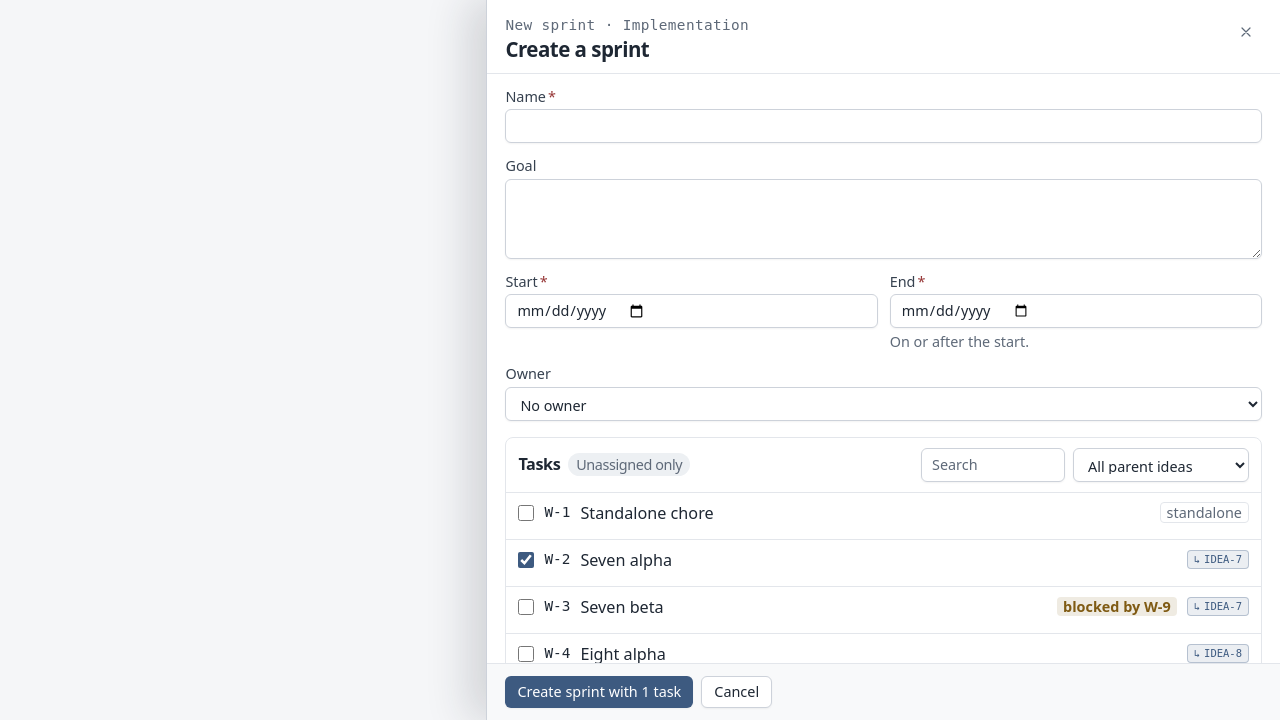
SprintCreateDrawer outcome › puts the sprint’s own refusals beside their fields, not under the picker
Type "  Sprint 9 " into the field labelled "Name*".
click(884, 126); type("  Sprint 9 ")  # box [505,109,1262,143]
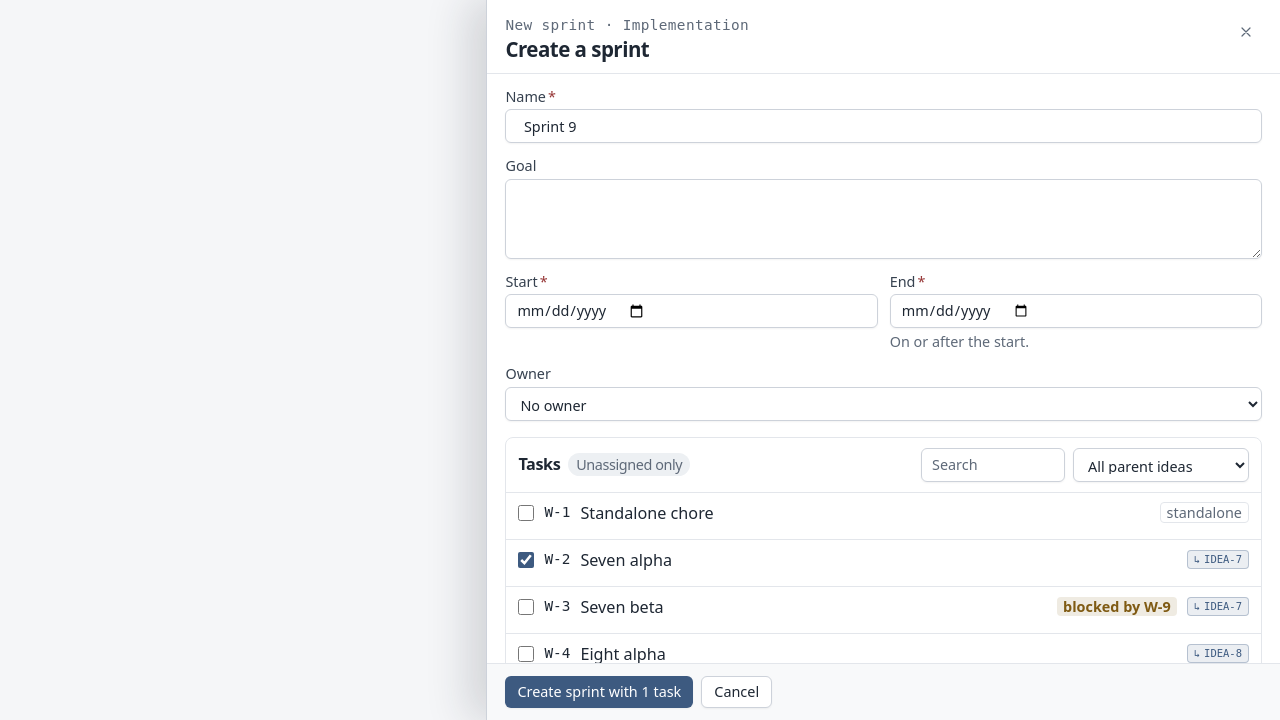
Type "2026-11-02" into the date field labelled "Start*".
click(692, 311); type("2026-11-02")  # box [505,294,878,328]
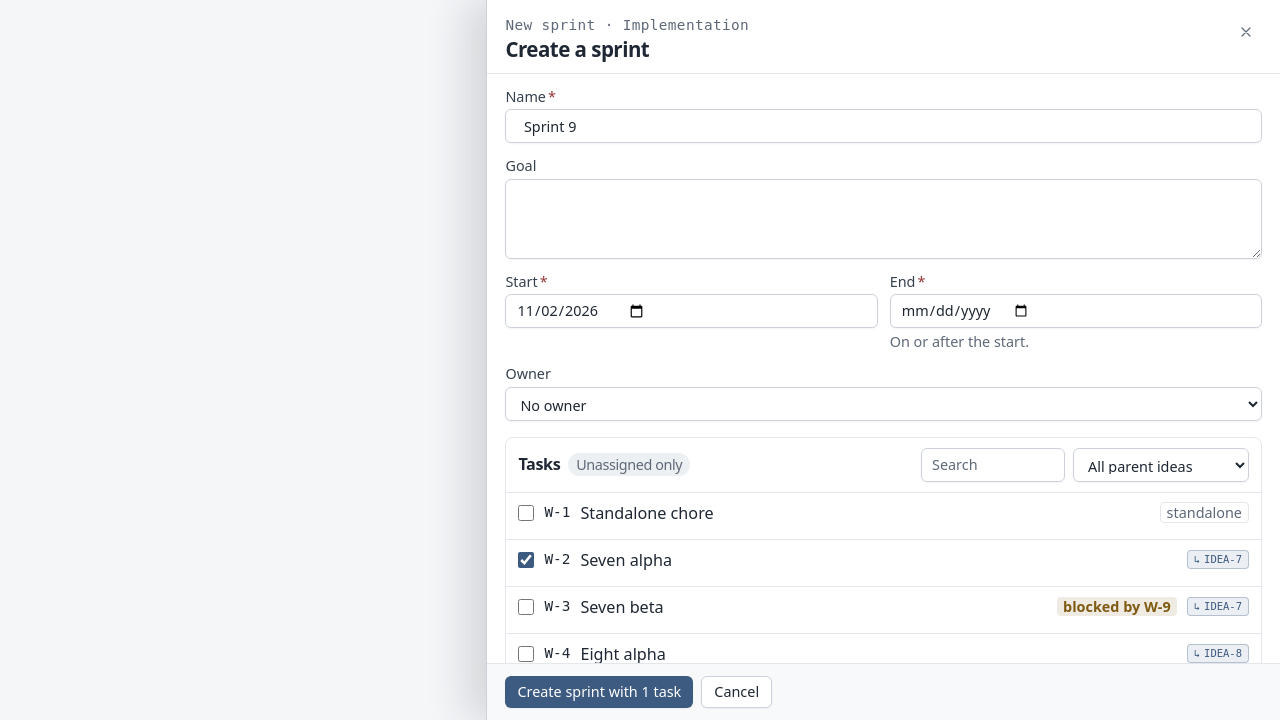
Type "2026-11-13" into the date field labelled "End*".
click(1076, 311); type("2026-11-13")  # box [890,294,1262,328]
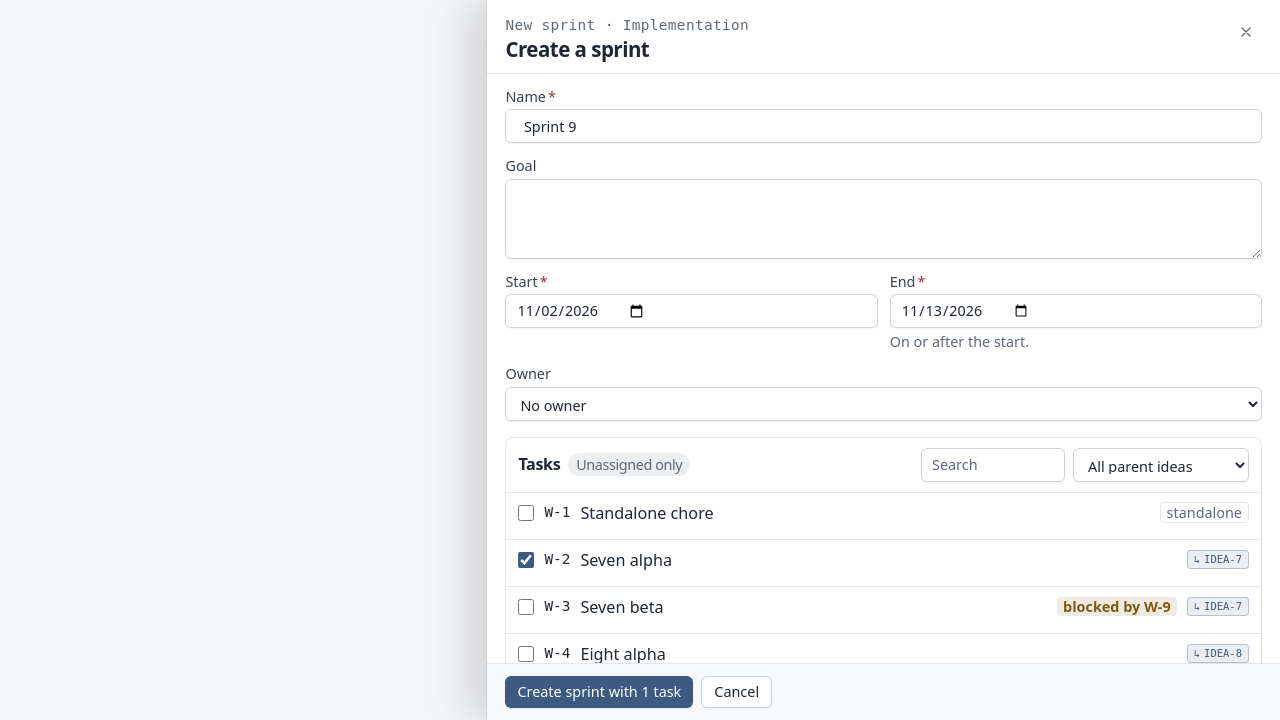
Click the button "Create sprint with 1 task".
click(599, 692)  # box [505,676,693,708]
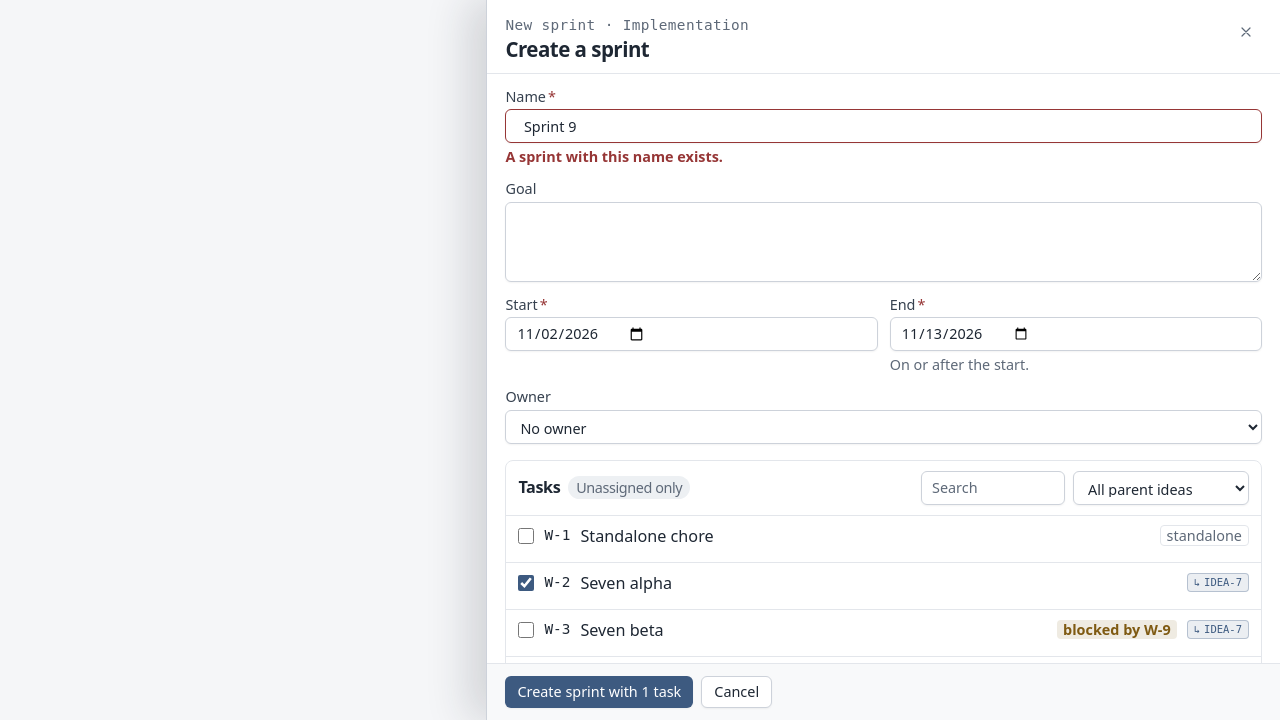
expect the text "A sprint with this name exists." is shown: met, box [505,147,723,166]
